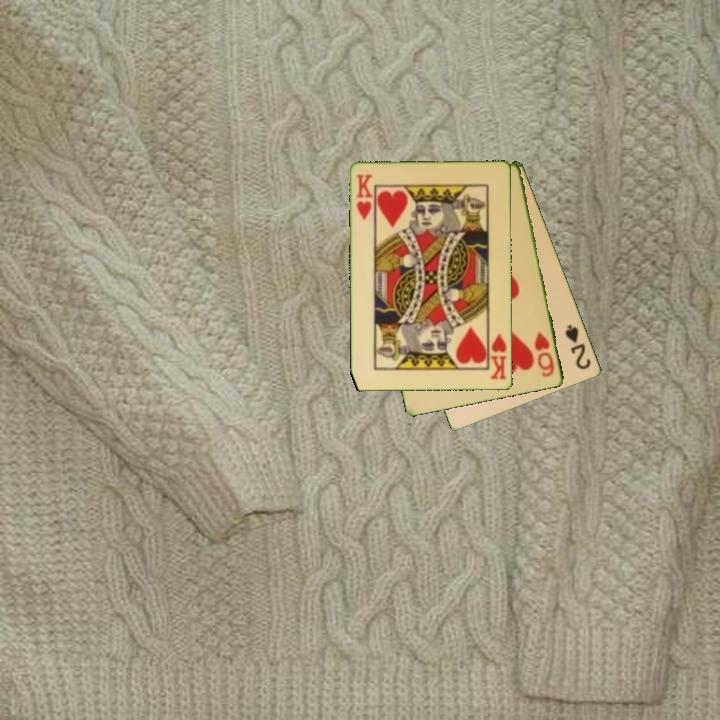2s: (562, 321, 594, 373)
6h: (531, 328, 558, 380)
Kh: (486, 327, 510, 382), (353, 171, 375, 223)
